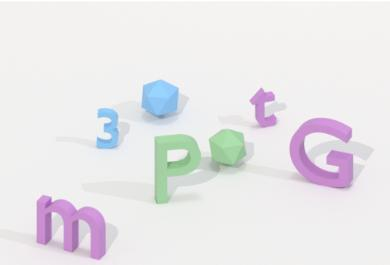0-TronCanh: (137, 75, 183, 122), (206, 125, 250, 169)
3: (94, 104, 123, 152)
G: (286, 113, 359, 192)
P: (150, 131, 203, 206)
m: (33, 192, 109, 262)
t: (248, 85, 280, 131)
